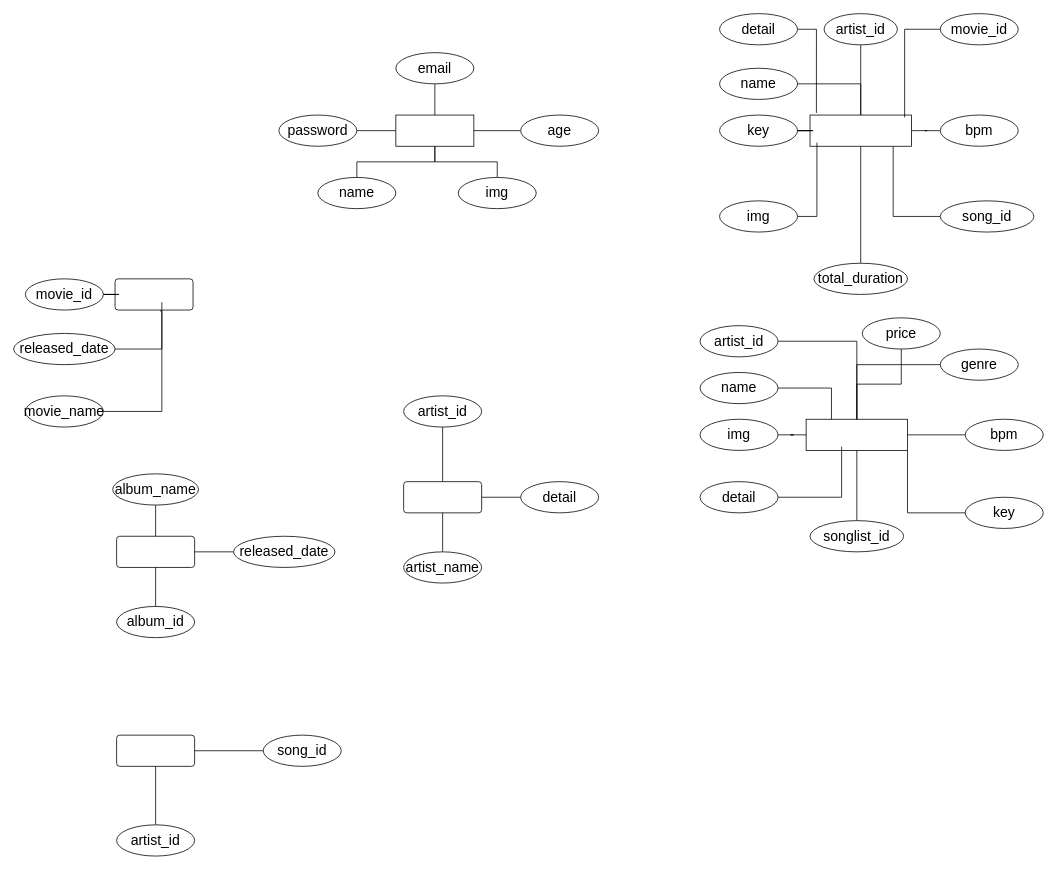
The diagram is 1057 pixels wide and 870 high, and some of its shapes have lost their labels. Each missing label, with the box of its shape:
album: (116, 535, 195, 567)
artist: (403, 481, 482, 513)
liked track: (116, 734, 195, 766)
Movies: (114, 278, 193, 310)
song_listed: (805, 418, 908, 450)
streamingsong: (809, 114, 911, 146)
user: (395, 114, 474, 146)
